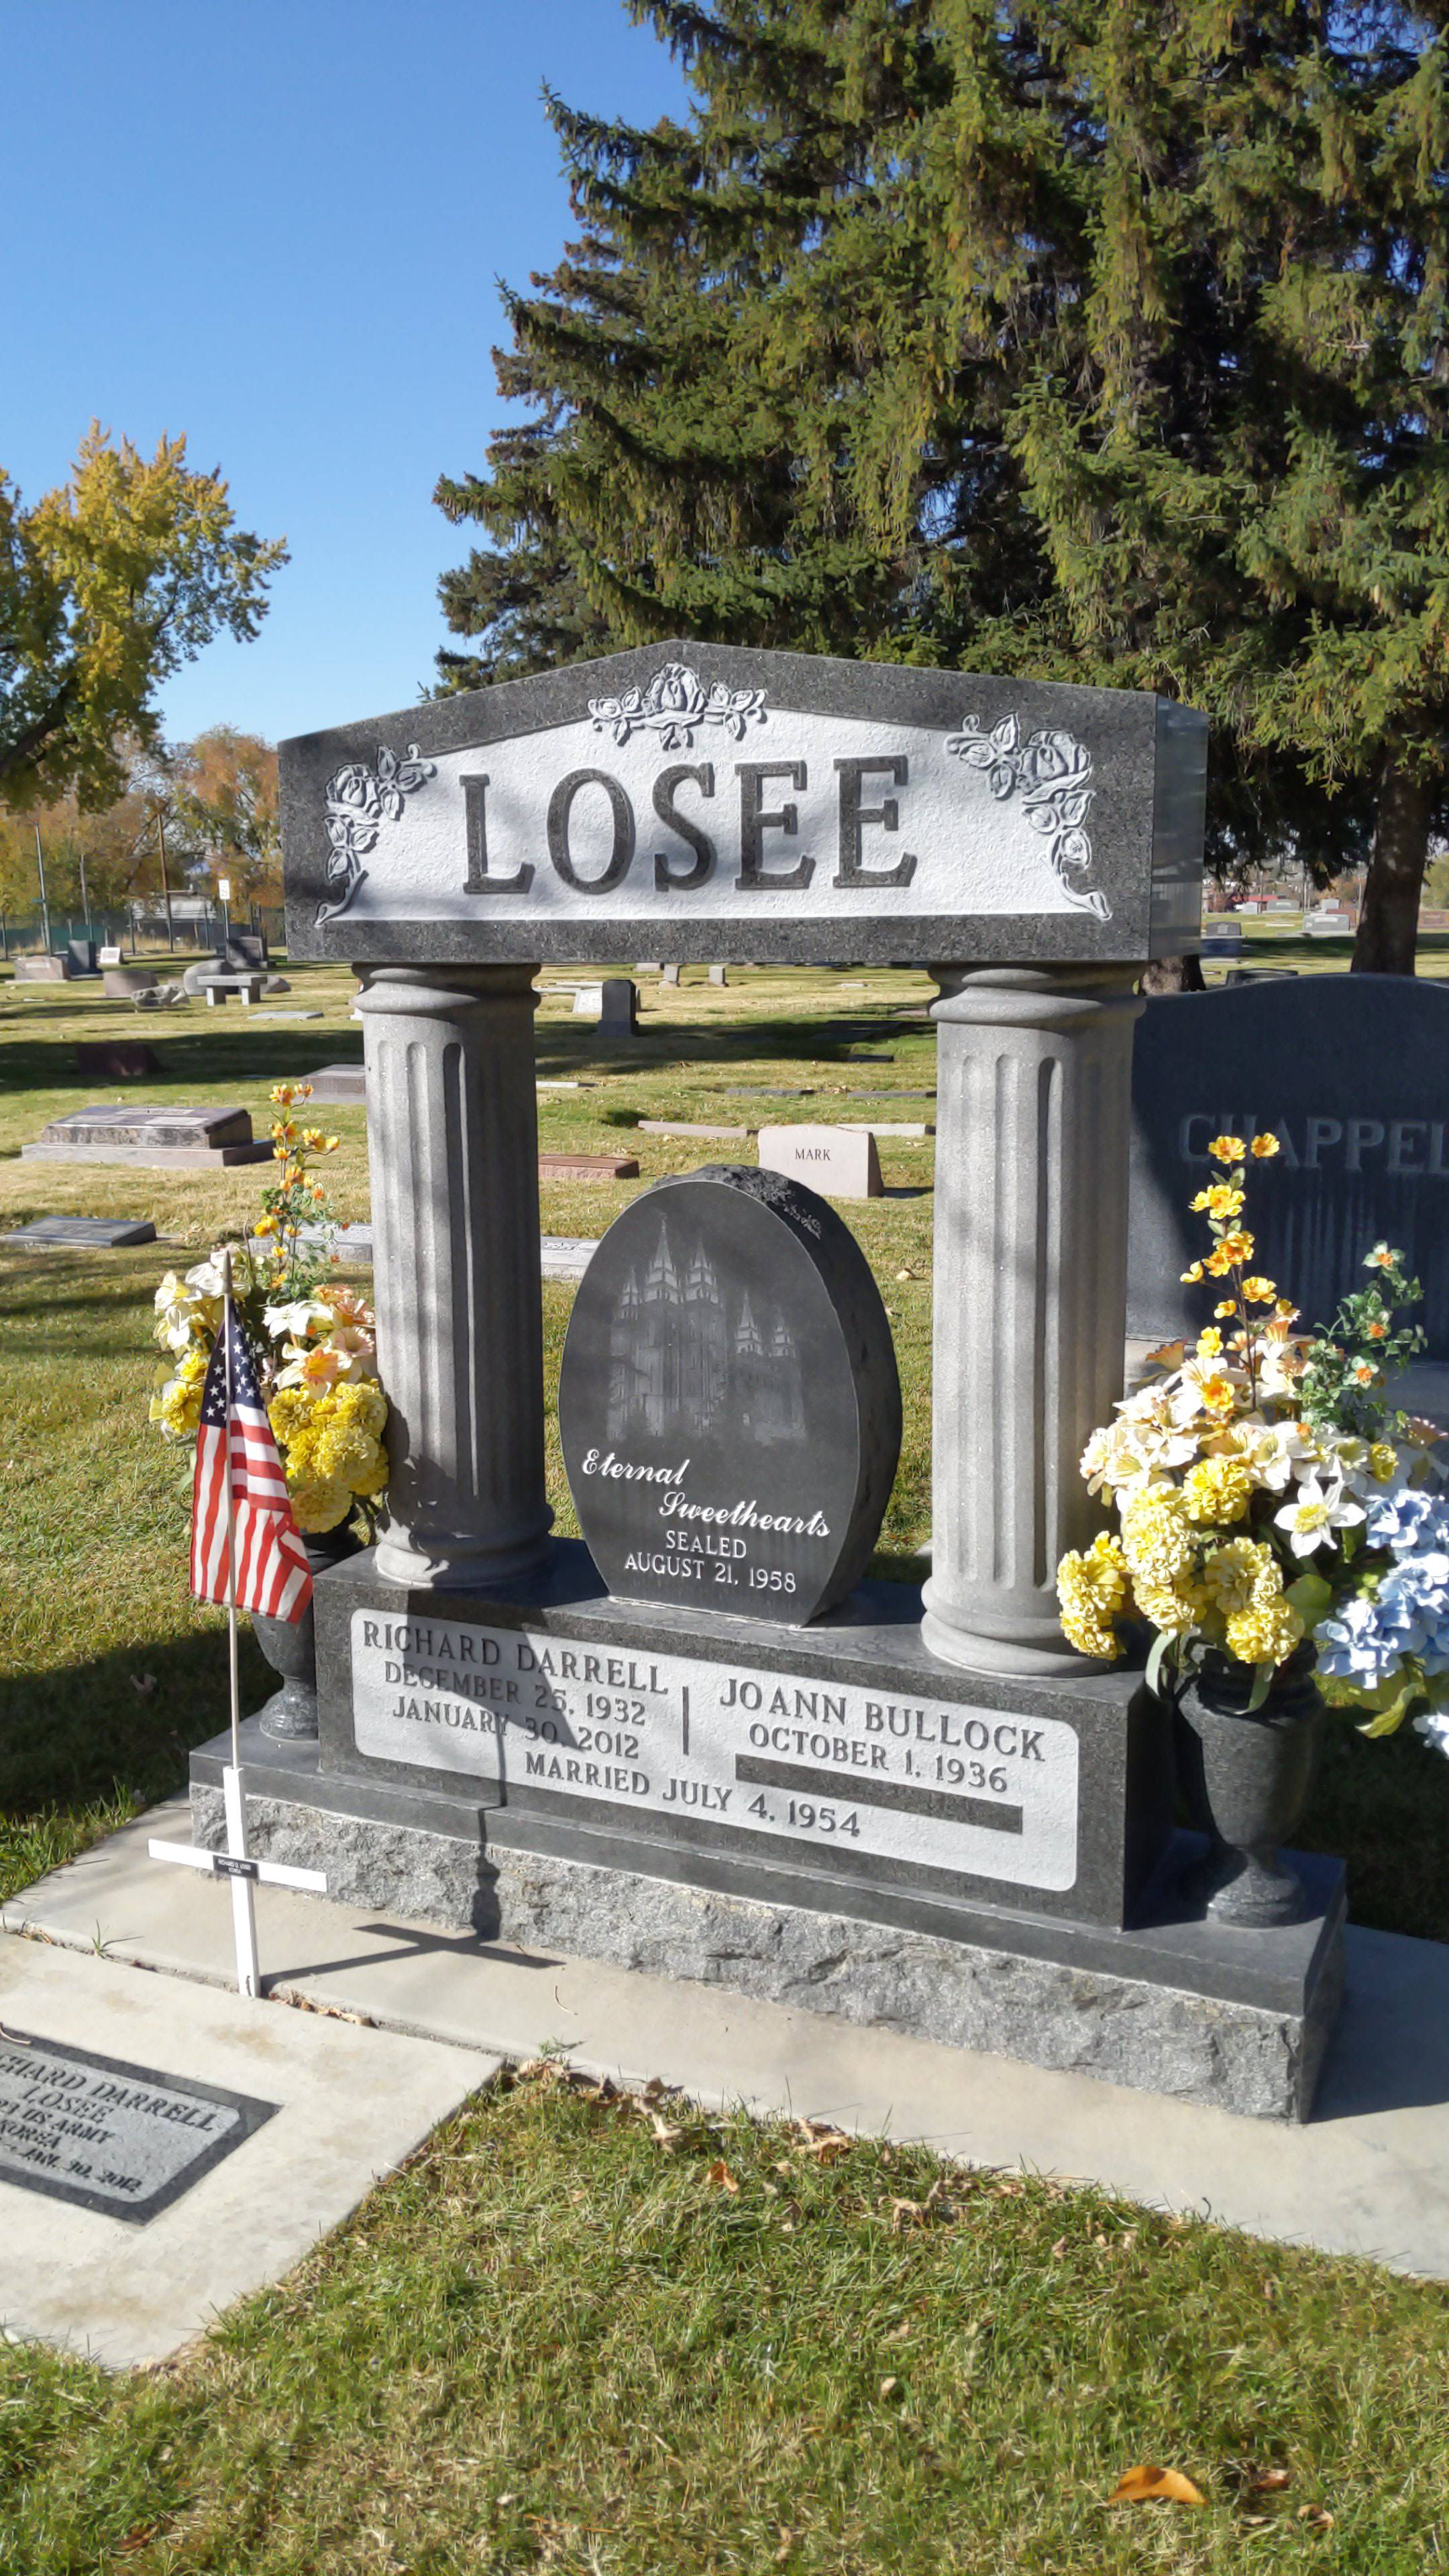statue: (281, 648, 1201, 1927)
